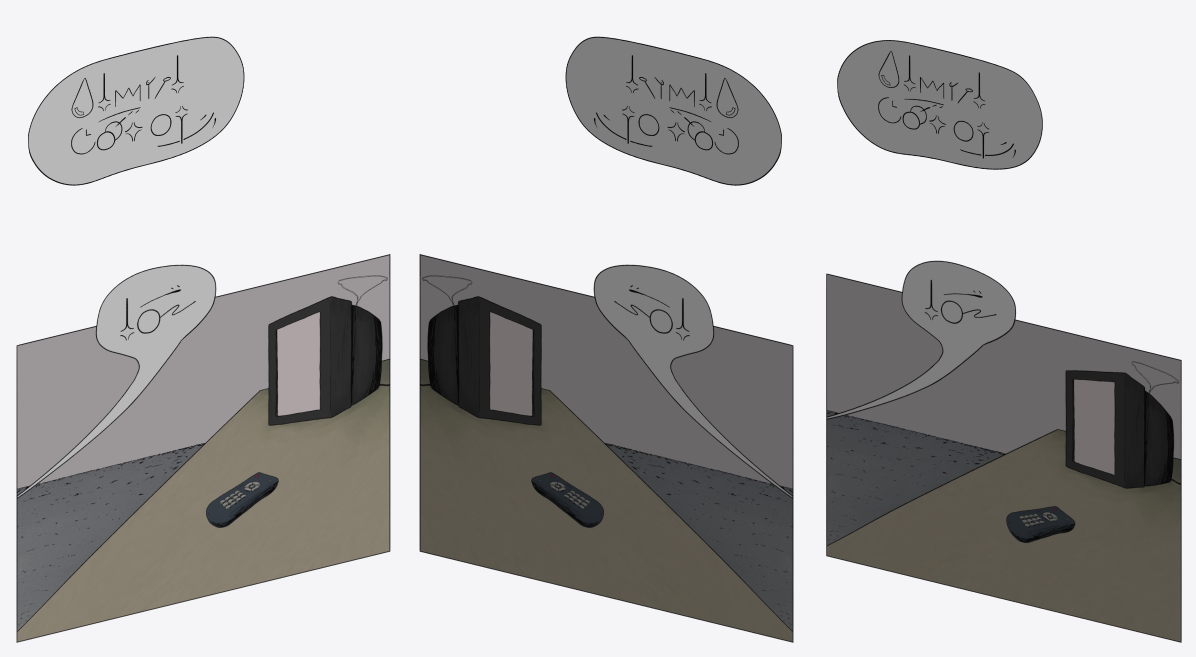
File: page_3_layout.glb
3 renders of one model, left to right at view 1: azimuth 30°, elevation 25°; view 2: azimuth 150°, elevation 25°; view 3: azimuth 330°, elevation 25°, orthographic. The views are drawn at different scales.
Parts seen in each view (by area): view 1: panel_0, bubble_0; view 2: panel_0, bubble_0; view 3: panel_0, bubble_0.
Boxes of the visible parts, x1,y1,x2,y2 form: panel_0: (16,254,390,642); bubble_0: (28,36,244,185); panel_0: (419,254,793,642); bubble_0: (565,36,781,185); panel_0: (826,260,1181,642); bubble_0: (837,40,1042,169).
Size of the model in its own units: 870 by 1259 by 6.99e-06.
2 materials, 2 textured.
